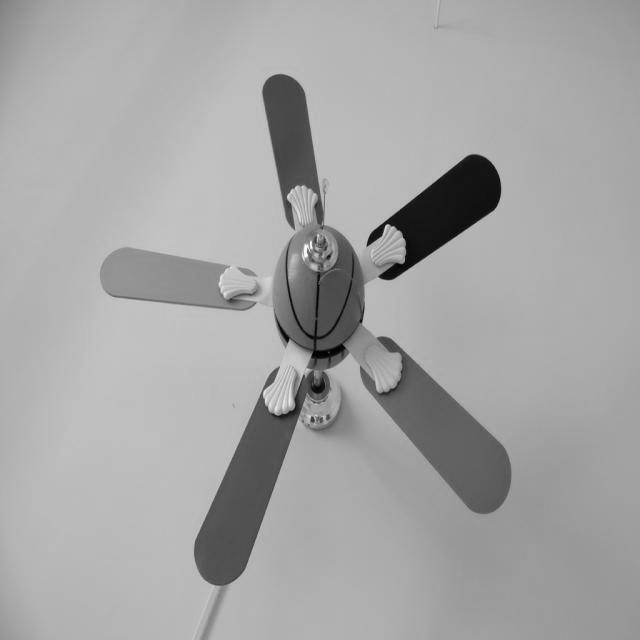fan: (98, 75, 512, 589)
